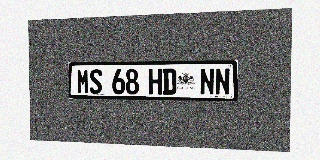6: (112, 69, 125, 94)
8: (125, 69, 139, 94)
D: (163, 68, 176, 95)
H: (148, 69, 162, 95)
M: (77, 69, 89, 94)
N: (200, 68, 215, 95), (215, 68, 230, 95)
S: (89, 69, 102, 94)
